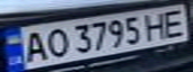3: (69, 21, 93, 54)
5: (121, 14, 145, 45)
7: (90, 19, 112, 51)
9: (106, 16, 127, 48)
A: (18, 29, 51, 63)
E: (157, 7, 193, 38)
H: (139, 10, 172, 42)
O: (39, 26, 69, 59)
